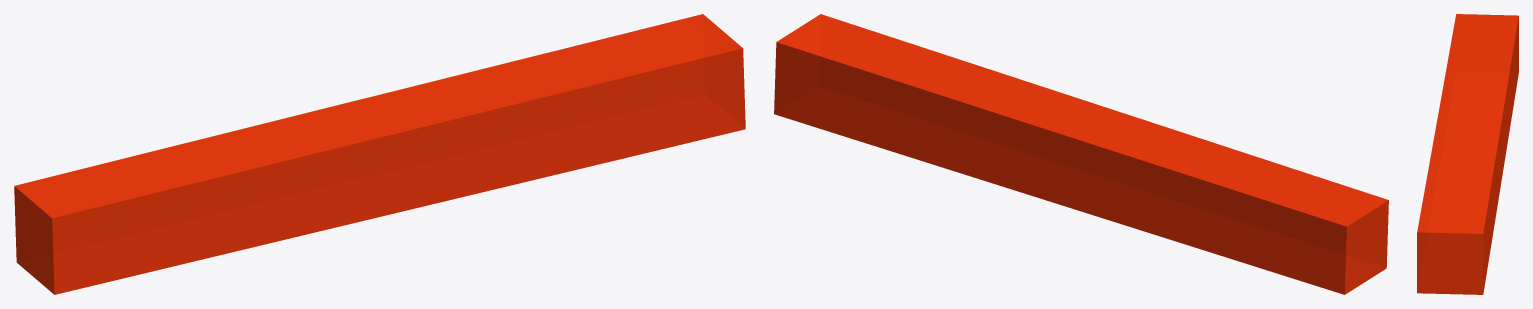
Rendered from Event_421556567_EErechit_62.fbx.
3 views of the same model, side by side, from view 1: azimuth 30°, elevation 25°; view 2: azimuth 150°, elevation 25°; view 3: azimuth 270°, elevation 25° (orthographic). The views are drawn at different scales.
Visible parts, largest first — view 1: Model; view 2: Model; view 3: Model.
Boxes of the visible parts, x1=… form: Model: x1=14, y1=14, x2=745, y2=294; Model: x1=774, y1=14, x2=1388, y2=294; Model: x1=1417, y1=14, x2=1518, y2=294.
Bounding box in the file's own units: 0.6602 × 0.0984 × 0.1176.
